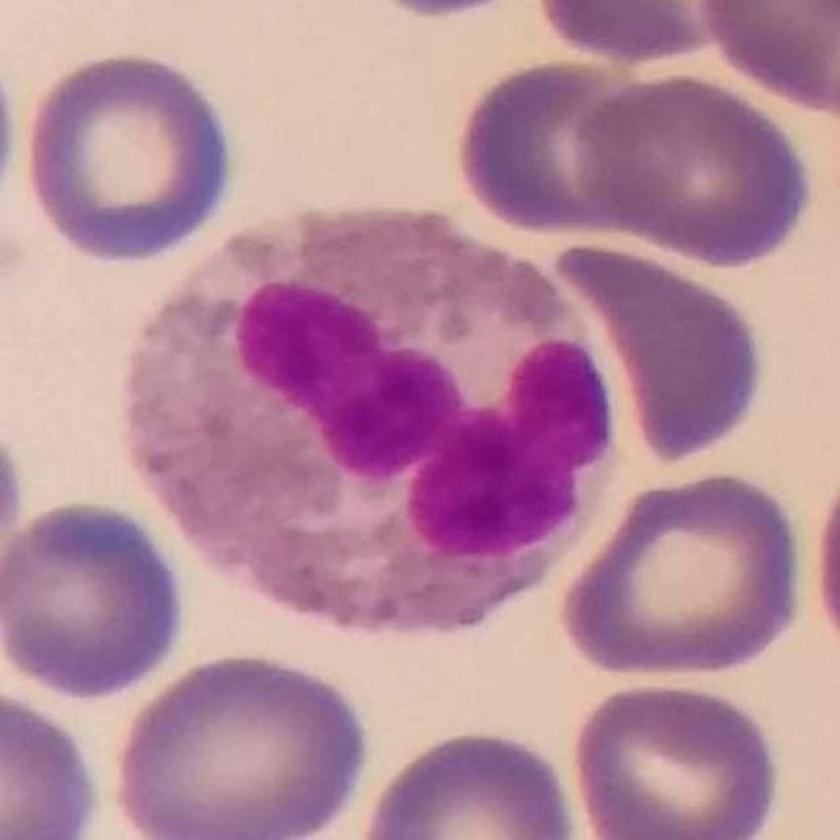eosinophil: (123, 211, 613, 640)
